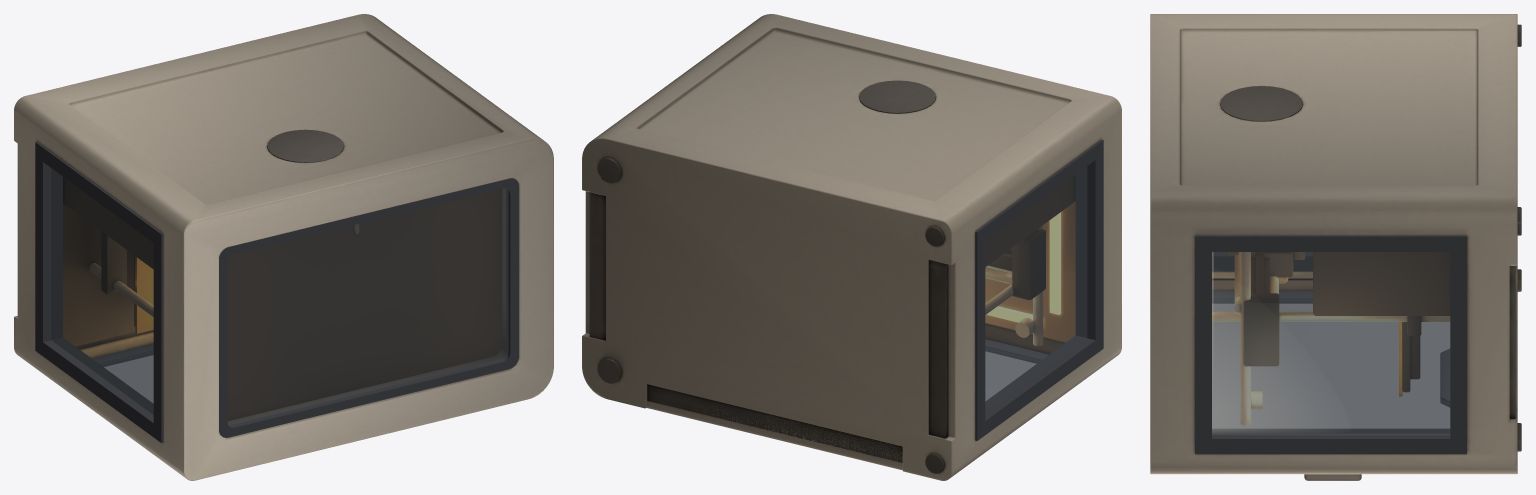
Rendered from deltrol_p2s_explorer_v6.glb.
3 views of the same model, side by side, from view 1: azimuth 30°, elevation 25°; view 2: azimuth 150°, elevation 25°; view 3: azimuth 270°, elevation 25° (orthographic). The views are drawn at different scales.
Visible parts, largest first — view 1: unibody_shell, top_roof_glass, interior_ceiling_liner, left_glass_window, left_window_gasket, top_rim_outer, interior_floor_tray, interior_left_back_baffle, rear_exhaust_shroud, front_glass_door, bed_heater_block, build_plate (+2 smaller); view 2: unibody_shell, left_glass_window, left_window_gasket, chassis_recessed_plinth, interior_ceiling_liner, interior_left_back_baffle, x_gantry_crossbeam, rear_exhaust_shroud, x_guide_front, front_glass_door, led_bar_left, door_top_rail; view 3: unibody_shell, right_glass_window, front_glass_door, right_window_gasket, interior_rear_electronics_box, right_glass_sheen, x_guide_front, x_gantry_crossbeam, rear_exhaust_shroud, bed_heater_block, chassis_recessed_plinth, left_window_gasket (+4 smaller).
Part boxes in pixels (left/top/right/bottom): unibody_shell: left=14, top=14, right=553, bottom=480; top_roof_glass: left=227, top=188, right=508, bottom=426; interior_ceiling_liner: left=227, top=189, right=501, bottom=420; left_glass_window: left=51, top=168, right=153, bottom=414; left_window_gasket: left=35, top=141, right=163, bottom=442; top_rim_outer: left=219, top=178, right=518, bottom=437; interior_floor_tray: left=63, top=203, right=135, bottom=346; interior_left_back_baffle: left=63, top=177, right=153, bottom=268; rear_exhaust_shroud: left=267, top=129, right=344, bottom=162; front_glass_door: left=100, top=351, right=153, bottom=402; bed_heater_block: left=101, top=231, right=135, bottom=326; build_plate: left=135, top=256, right=153, bottom=333; unibody_shell: left=582, top=14, right=1121, bottom=480; left_glass_window: left=985, top=166, right=1087, bottom=412; left_window_gasket: left=975, top=139, right=1103, bottom=440; chassis_recessed_plinth: left=589, top=192, right=948, bottom=462; interior_ceiling_liner: left=985, top=201, right=1075, bottom=342; interior_left_back_baffle: left=985, top=175, right=1075, bottom=266; x_gantry_crossbeam: left=988, top=229, right=1045, bottom=299; rear_exhaust_shroud: left=859, top=80, right=936, bottom=113; x_guide_front: left=985, top=225, right=1043, bottom=345; front_glass_door: left=985, top=347, right=1039, bottom=400; led_bar_left: left=1049, top=212, right=1060, bottom=314; door_top_rail: left=985, top=339, right=1048, bottom=363; unibody_shell: left=1150, top=14, right=1517, bottom=474; right_glass_window: left=1212, top=252, right=1450, bottom=434; front_glass_door: left=1212, top=299, right=1449, bottom=428; right_window_gasket: left=1195, top=235, right=1466, bottom=454; interior_rear_electronics_box: left=1313, top=252, right=1450, bottom=315; right_glass_sheen: left=1212, top=252, right=1298, bottom=433; x_guide_front: left=1212, top=252, right=1450, bottom=425; x_gantry_crossbeam: left=1243, top=252, right=1291, bottom=365; rear_exhaust_shroud: left=1220, top=86, right=1302, bottom=121; bed_heater_block: left=1402, top=316, right=1421, bottom=392; chassis_recessed_plinth: left=1509, top=266, right=1515, bottom=418; left_window_gasket: left=1212, top=252, right=1312, bottom=271.
Bounding box in the file's own units: 0.469 × 0.3268 × 0.374.
10 materials, 4 textured.
